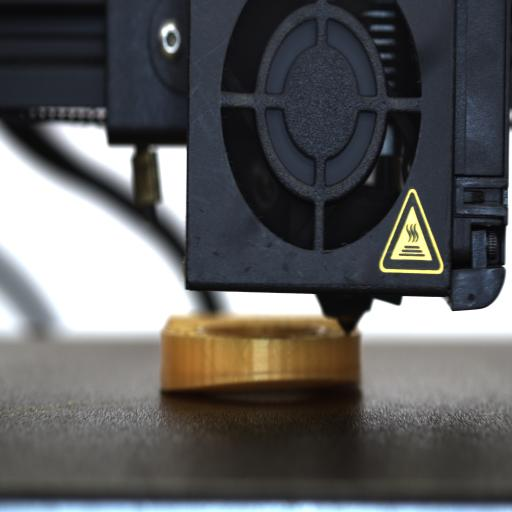warp: (160, 374, 359, 398)
